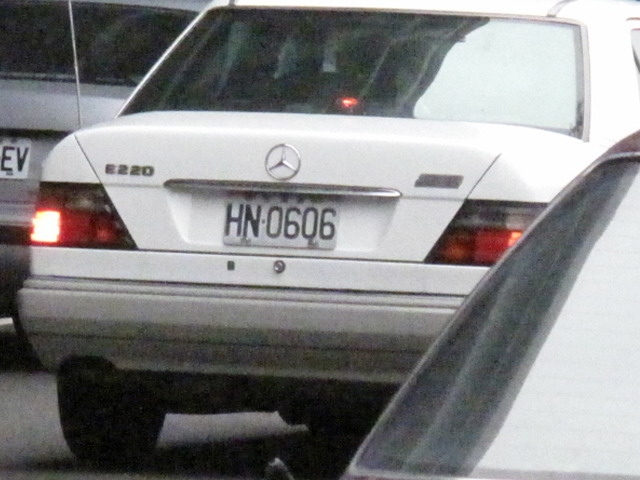plate: (222, 192, 341, 251)
